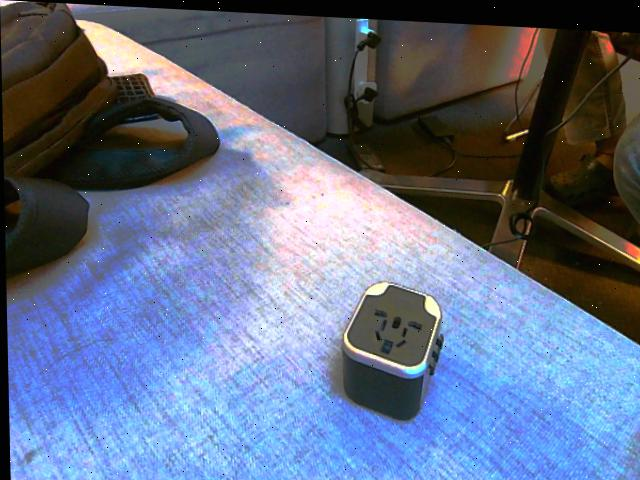adapter: (337, 274, 444, 417)
